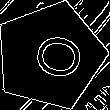O_W: (19, 28, 82, 84)
